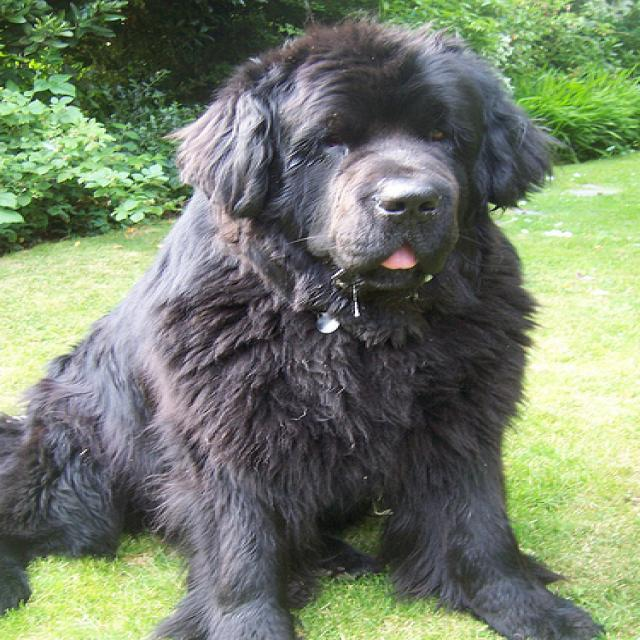dog-newfoundland: (2, 9, 628, 637)
